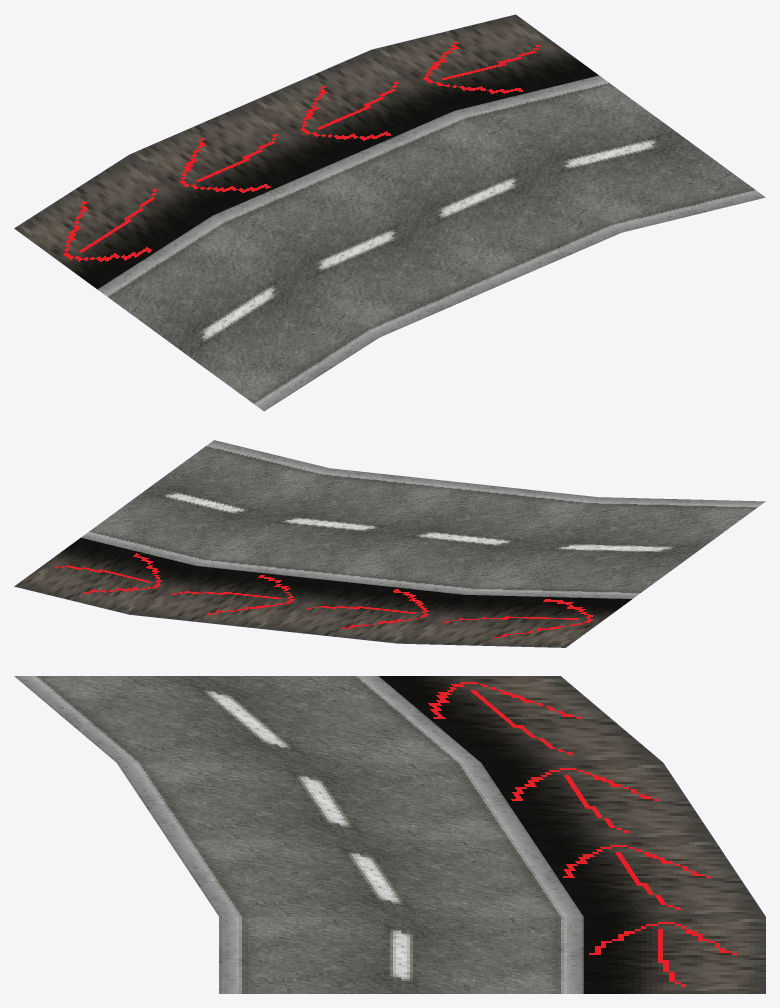
File: ROAD.obj
The picture shows the model from 3 angles, top to bottom: view 1: azimuth 30°, elevation 25°; view 2: azimuth 150°, elevation 25°; view 3: azimuth 270°, elevation 25°; orthographic projection. The views are drawn at different scales.
Visible parts, largest first — view 1: Grid; view 2: Grid; view 3: Grid.
Boxes of the visible parts, <box> form: Grid: <box>14,14,765,411</box>; Grid: <box>14,440,765,647</box>; Grid: <box>14,676,765,993</box>.
Size of the model in its own units: 3.67 by 0 by 3.67.
Materials: 2 (2 with a texture image).
